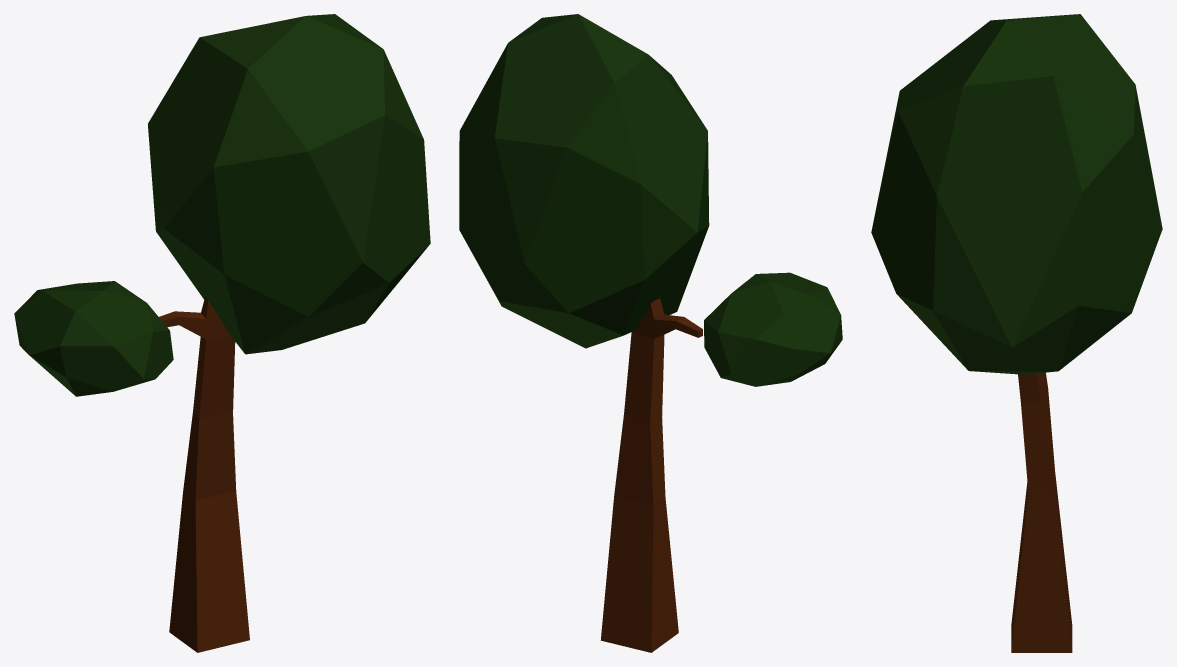
File: tree 2.fbx
The picture shows the model from 3 angles, left to right: view 1: azimuth 30°, elevation 25°; view 2: azimuth 150°, elevation 25°; view 3: azimuth 270°, elevation 25°; orthographic projection. The views are drawn at different scales.
Parts seen in each view (by area): view 1: tree 2; view 2: tree 2; view 3: tree 2.
Boxes of the visible parts, x1,y1,x2,y2 form: tree 2: [14, 14, 430, 652]; tree 2: [459, 14, 842, 652]; tree 2: [871, 14, 1162, 652].
Size of the model in its own units: 1996 by 1222 by 3056.
